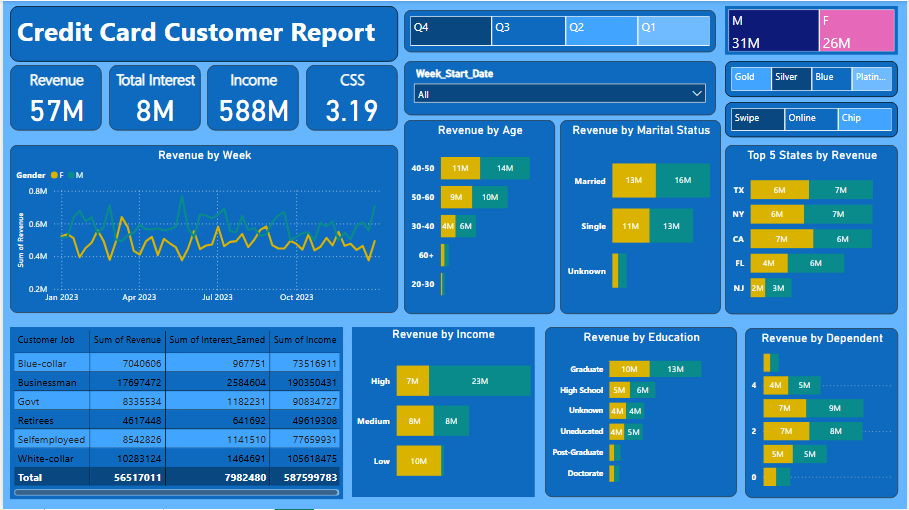

Layout of this report page (visuals, bound fields, positions):
{"tool":"powerbi","page":{"name":"CC Customer","canvas":[1280,720],"ordinal":1},"visuals":[{"type":"textbox","box":[9.5,7.1,550,78.6],"z":0},{"type":"tableEx","fields":{"Values":["creditcard_db customer_details.Customer_Job","Sum(creditcard_db creditcard_details.Revenue)","Sum(creditcard_db creditcard_details.Interest_Earned)","Sum(creditcard_db customer_details.Income)"]},"box":[9.9,462,472,243.8],"z":1000},{"type":"card","title":"Revenue","fields":{"Values":["Sum(creditcard_db creditcard_details.Revenue)"]},"box":[9.6,90.6,130.4,93.3],"z":2000},{"type":"card","title":"CSS","fields":{"Values":["Avg(creditcard_db customer_details.Customer_Satisfaction_Score)"]},"box":[429.8,90.5,129.8,92.9],"z":3000},{"type":"card","title":"Total Interest","fields":{"Values":["Sum(creditcard_db creditcard_details.Interest_Earned)"]},"box":[149.6,90.6,130.4,93.3],"z":4000},{"type":"card","title":"Income","fields":{"Values":["Sum(creditcard_db customer_details.Income)"]},"box":[289.5,90.6,130.4,93.3],"z":5000},{"type":"slicer","fields":{"Values":["creditcard_db creditcard_details.Week_Start_Date"]},"box":[568.3,85,442.2,76.5],"z":6000},{"type":"treemap","fields":{"Group":["creditcard_db creditcard_details.Qtr"],"Values":["Avg(creditcard_db creditcard_details.Client_Num)"]},"box":[568.3,12.8,442.2,59.5],"z":7000},{"type":"treemap","fields":{"Values":["Avg(creditcard_db creditcard_details.Client_Num)"],"Group":["creditcard_db creditcard_details.Card_Category"]},"box":[1023.3,85,245.2,51],"z":8000},{"type":"lineChart","title":"Revenue by Week","fields":{"Y":["Sum(creditcard_db creditcard_details.Revenue)"],"Series":["creditcard_db customer_details.Gender"],"Category":["creditcard_db creditcard_details.Week_Start_Date.Variation.Date Hierarchy.Year","creditcard_db creditcard_details.Week_Start_Date.Variation.Date Hierarchy.Month","creditcard_db creditcard_details.Week_Start_Date.Variation.Date Hierarchy.Day"]},"box":[9.9,204.1,549.9,238.1],"z":9000},{"type":"treemap","fields":{"Group":["creditcard_db customer_details.Gender"],"Values":["Sum(creditcard_db creditcard_details.Revenue)"]},"box":[1023.3,7.1,245.2,69.4],"z":10000},{"type":"barChart","title":"Revenue by Education","fields":{"Y":["Sum(creditcard_db creditcard_details.Revenue)"],"Series":["creditcard_db customer_details.Gender"],"Category":["creditcard_db customer_details.Education_Level"]},"box":[768.2,462,272.1,240.9],"z":11000},{"type":"barChart","title":"Revenue by Age","fields":{"Y":["Sum(creditcard_db creditcard_details.Revenue)"],"Series":["creditcard_db customer_details.Gender"],"Category":["creditcard_db customer_details.AgeGroup"]},"box":[568.3,168.7,214,275],"z":12000},{"type":"barChart","title":"Revenue by Marital Status","fields":{"Category":["creditcard_db customer_details.Marital_Status"],"Y":["Sum(creditcard_db creditcard_details.Revenue)"],"Series":["creditcard_db customer_details.Gender"]},"box":[789.4,168.7,228.2,275],"z":13000},{"type":"barChart","title":"Revenue by Income","fields":{"Y":["Sum(creditcard_db creditcard_details.Revenue)"],"Series":["creditcard_db customer_details.Gender"],"Category":["creditcard_db customer_details.IncomeGroup"]},"box":[494.6,462,259.4,240.9],"z":14000},{"type":"barChart","title":"Top 5 States by Revenue","fields":{"Category":["creditcard_db customer_details.State_Cd"],"Y":["Sum(creditcard_db creditcard_details.Revenue)"],"Series":["creditcard_db customer_details.Gender"]},"box":[1023.3,204.1,245.2,239.5],"z":15000},{"type":"barChart","title":"Revenue by Dependent","fields":{"Y":["Sum(creditcard_db creditcard_details.Revenue)"],"Series":["creditcard_db customer_details.Gender"],"Category":["creditcard_db customer_details.Dependent_Count"]},"box":[1051.7,463.5,216.9,240.9],"z":16000},{"type":"treemap","fields":{"Values":["Avg(creditcard_db creditcard_details.Client_Num)"],"Group":["creditcard_db creditcard_details.Use_Chip"]},"box":[1023.3,143.1,245.2,49.6],"z":17000}]}

Visuals, with their boxes in screenshot pixels (x1, y1, x2, y2), scaled from the page's 1280x720 canvas onto the 909x510 screenshot:
textbox: [7, 5, 397, 61]
tableEx - creditcard_db customer_details.Customer_Job x Sum(creditcard_db creditcard_details.Revenue): [7, 327, 342, 500]
"Revenue" card: [7, 64, 99, 130]
"CSS" card: [305, 64, 397, 130]
"Total Interest" card: [106, 64, 199, 130]
"Income" card: [206, 64, 298, 130]
slicer - creditcard_db creditcard_details.Week_Start_Date: [404, 60, 718, 114]
treemap - creditcard_db creditcard_details.Qtr x Avg(creditcard_db creditcard_details.Client_Num): [404, 9, 718, 51]
treemap - Avg(creditcard_db creditcard_details.Client_Num) x creditcard_db creditcard_details.Card_Category: [727, 60, 901, 96]
"Revenue by Week" lineChart: [7, 145, 398, 313]
treemap - creditcard_db customer_details.Gender x Sum(creditcard_db creditcard_details.Revenue): [727, 5, 901, 54]
"Revenue by Education" barChart: [546, 327, 739, 498]
"Revenue by Age" barChart: [404, 119, 556, 314]
"Revenue by Marital Status" barChart: [561, 119, 723, 314]
"Revenue by Income" barChart: [351, 327, 535, 498]
"Top 5 States by Revenue" barChart: [727, 145, 901, 314]
"Revenue by Dependent" barChart: [747, 328, 901, 499]
treemap - Avg(creditcard_db creditcard_details.Client_Num) x creditcard_db creditcard_details.Use_Chip: [727, 101, 901, 136]
